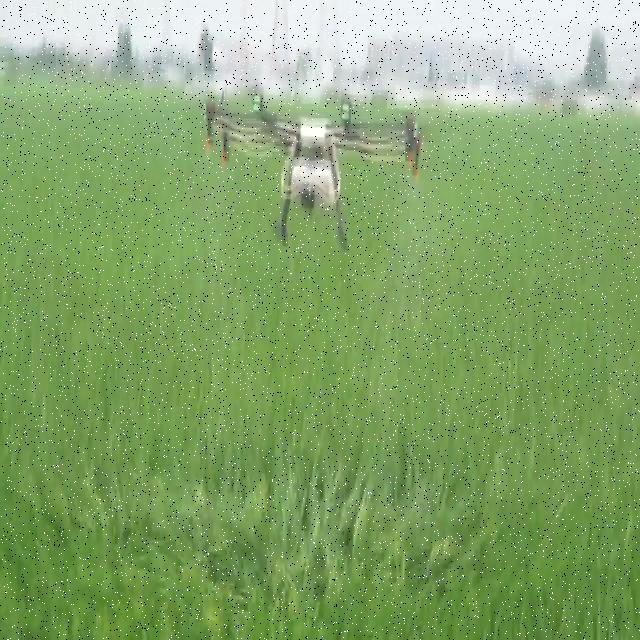UAV: (202, 86, 424, 254)
